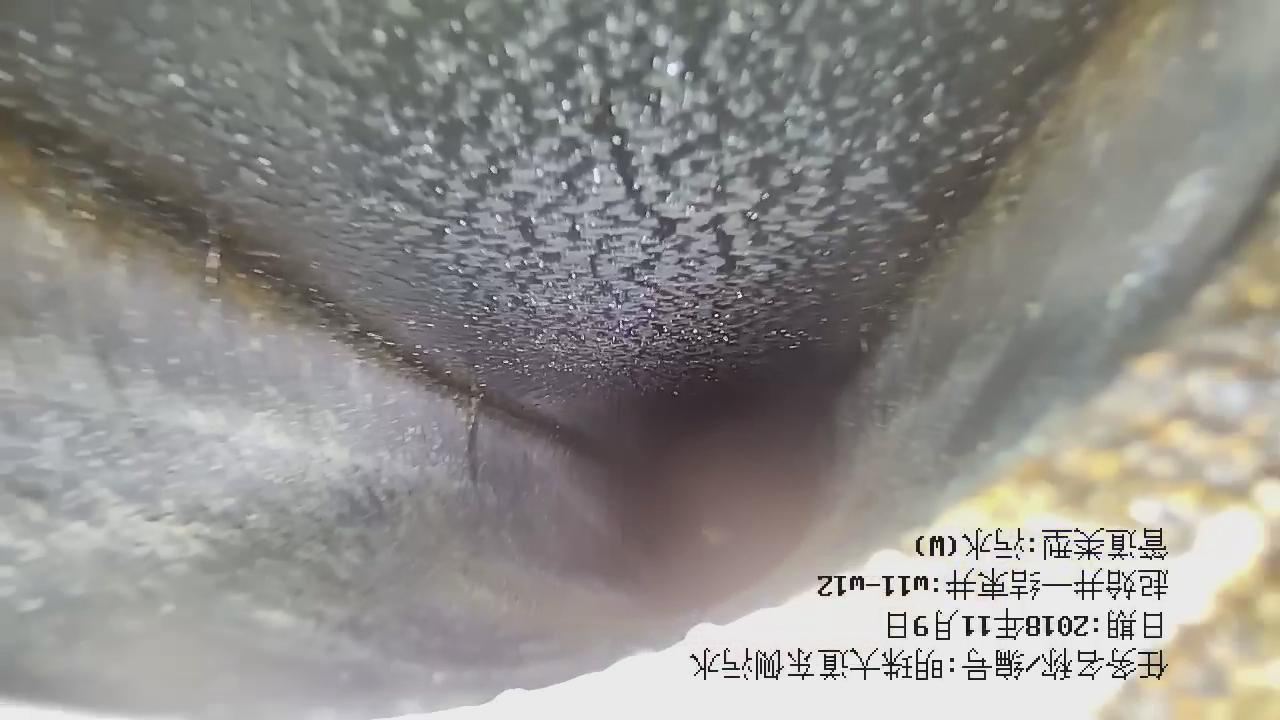FZ: (1, 1, 1109, 432)
